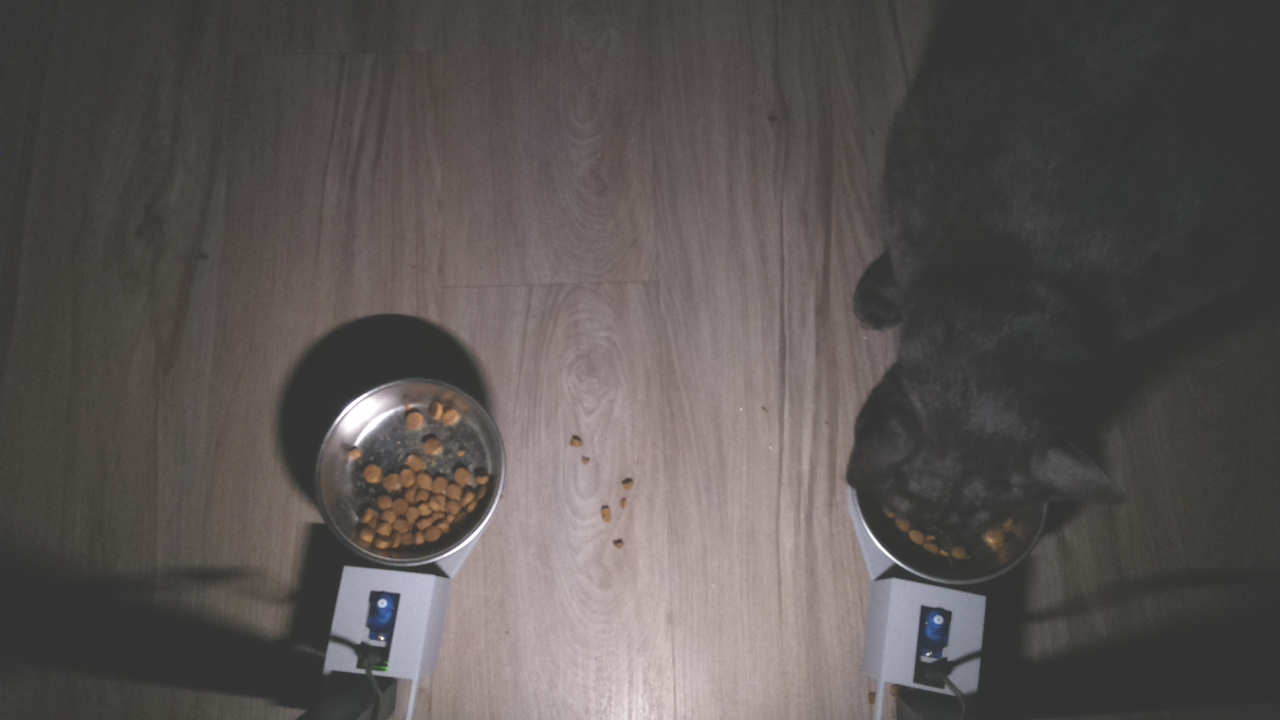open_bowl: (311, 375, 508, 576)
saki_eating: (842, 358, 1130, 594)
